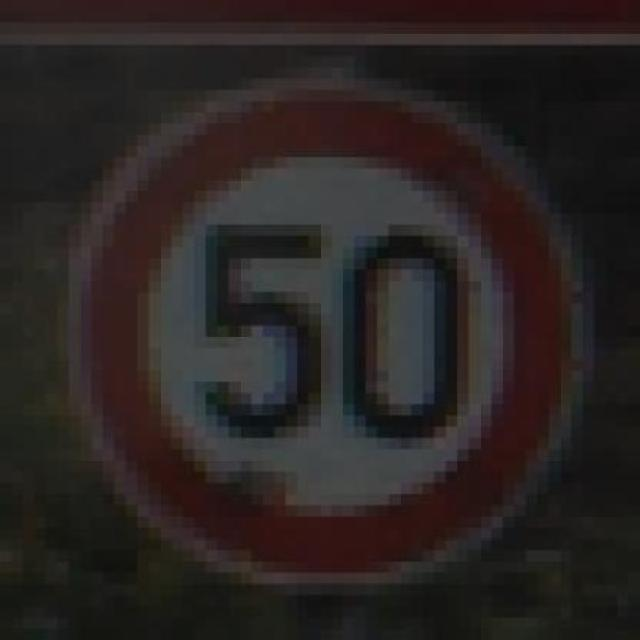forb_speed_over_50: (76, 92, 582, 574)
